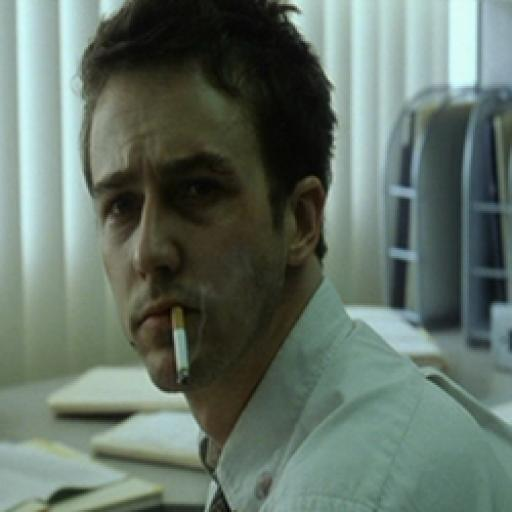merokok: (121, 211, 252, 408)
